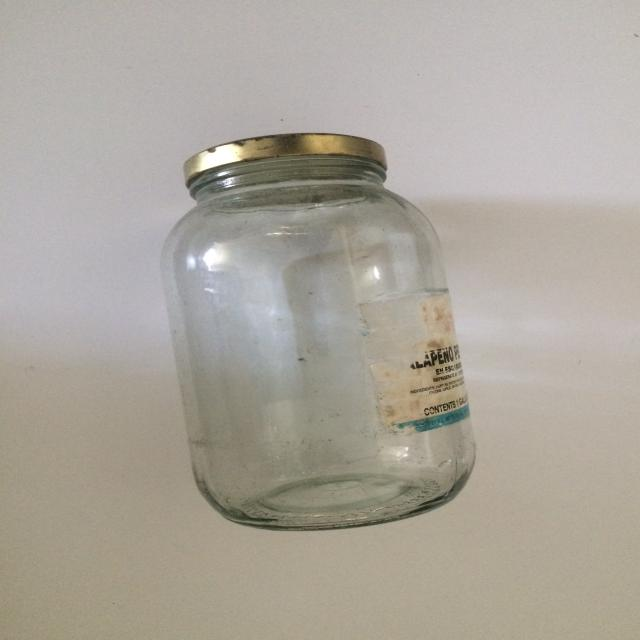glass: (155, 130, 478, 532)
